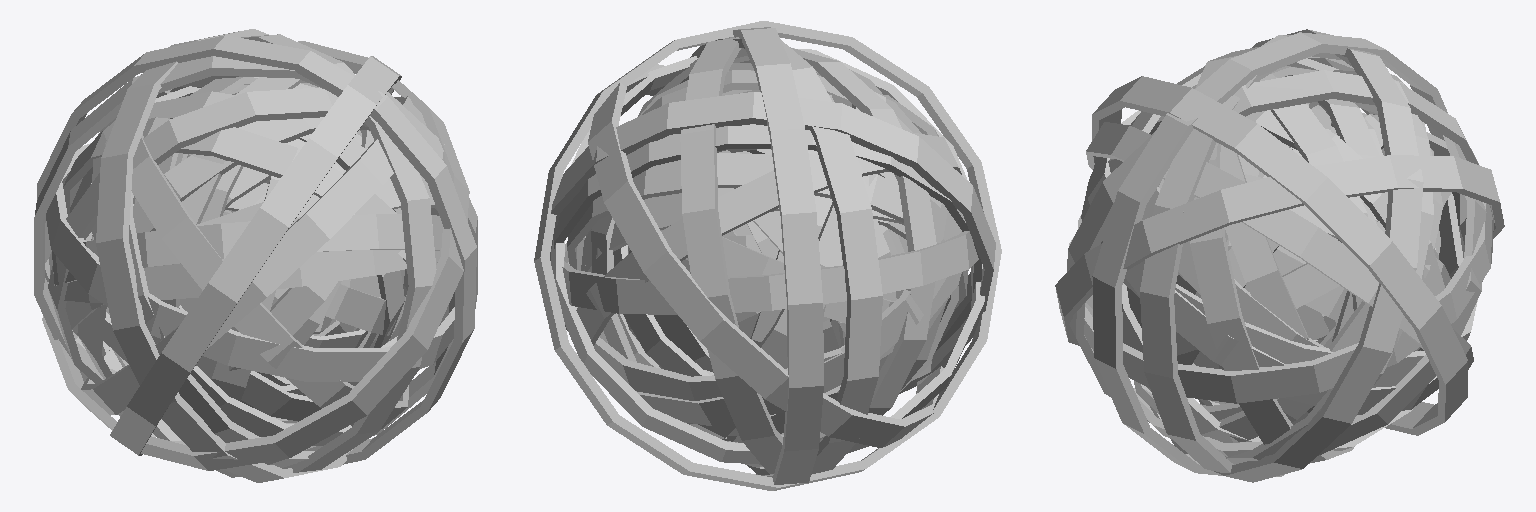
The model's file is newball.obj.
3 views of the same model, side by side, from view 1: azimuth 30°, elevation 25°; view 2: azimuth 150°, elevation 25°; view 3: azimuth 270°, elevation 25° (orthographic).
Visible parts, largest first — view 1: Cylinder.002_Cylinder.004; view 2: Cylinder.002_Cylinder.004; view 3: Cylinder.002_Cylinder.004.
Part boxes in pixels (left/top/right/bottom): Cylinder.002_Cylinder.004: left=34, top=29, right=477, bottom=482; Cylinder.002_Cylinder.004: left=534, top=21, right=1001, bottom=490; Cylinder.002_Cylinder.004: left=1055, top=29, right=1504, bottom=482.
Bounding box in the file's own units: 0.9073 × 0.9761 × 0.9577.